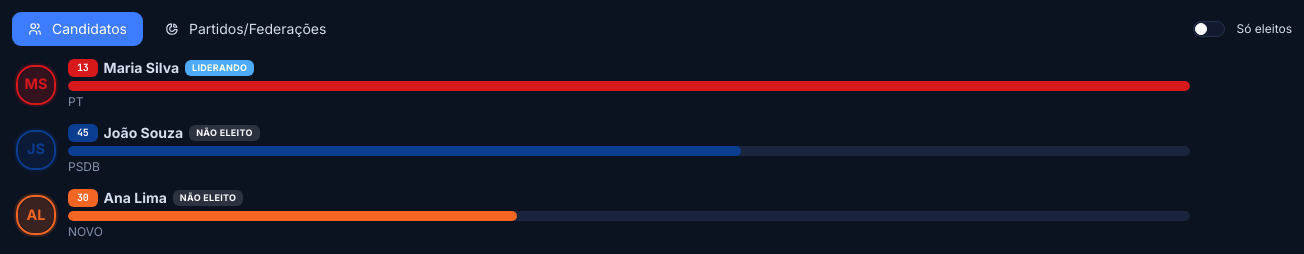
Scenario: scoreboard › says when the seats are not published yet
Click the tab "Partidos/Federações".
click(246, 29)  # box [149,12,342,46]
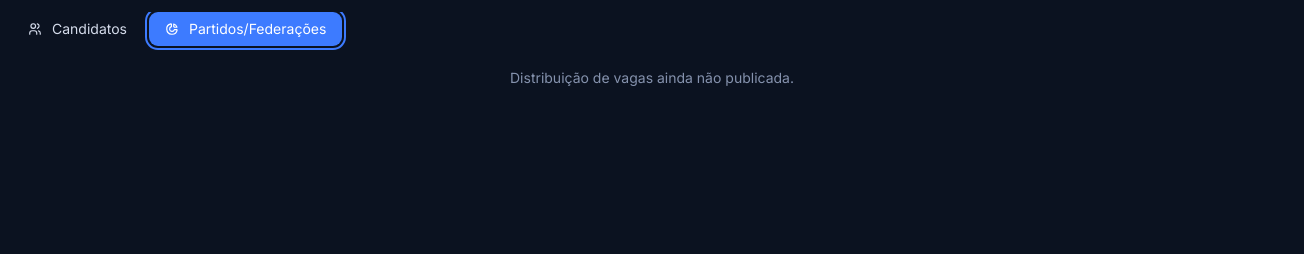
Result: the text "Distribuição de vagas ainda não publicada." is shown at [510,69,794,86]
